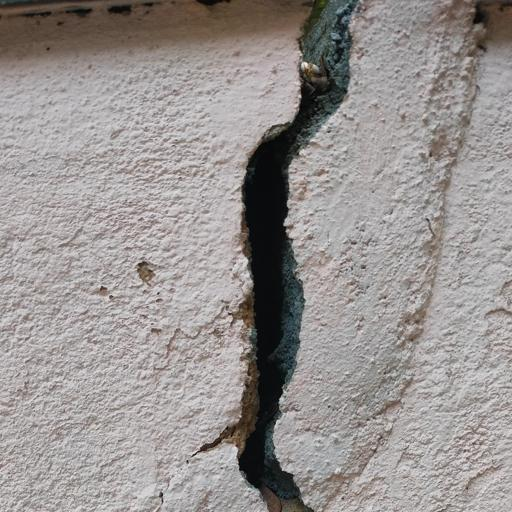major_crack: (188, 0, 366, 512)
